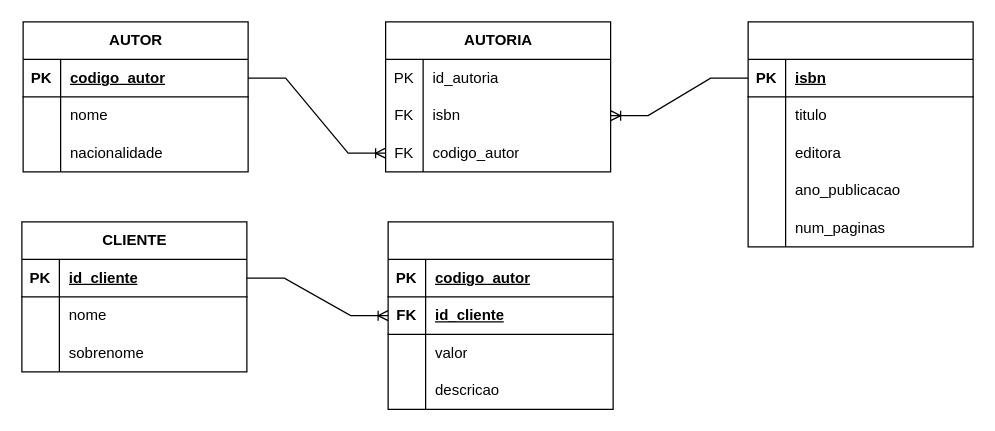
The diagram is 995 pixels wide and 431 high, and some of its shapes have lost their labels. The box of each missing label's shape, as (x1, y1, x2, y2) in pixels:
LIVRO: (747, 21, 973, 247)
PEDIDO: (387, 221, 613, 409)
